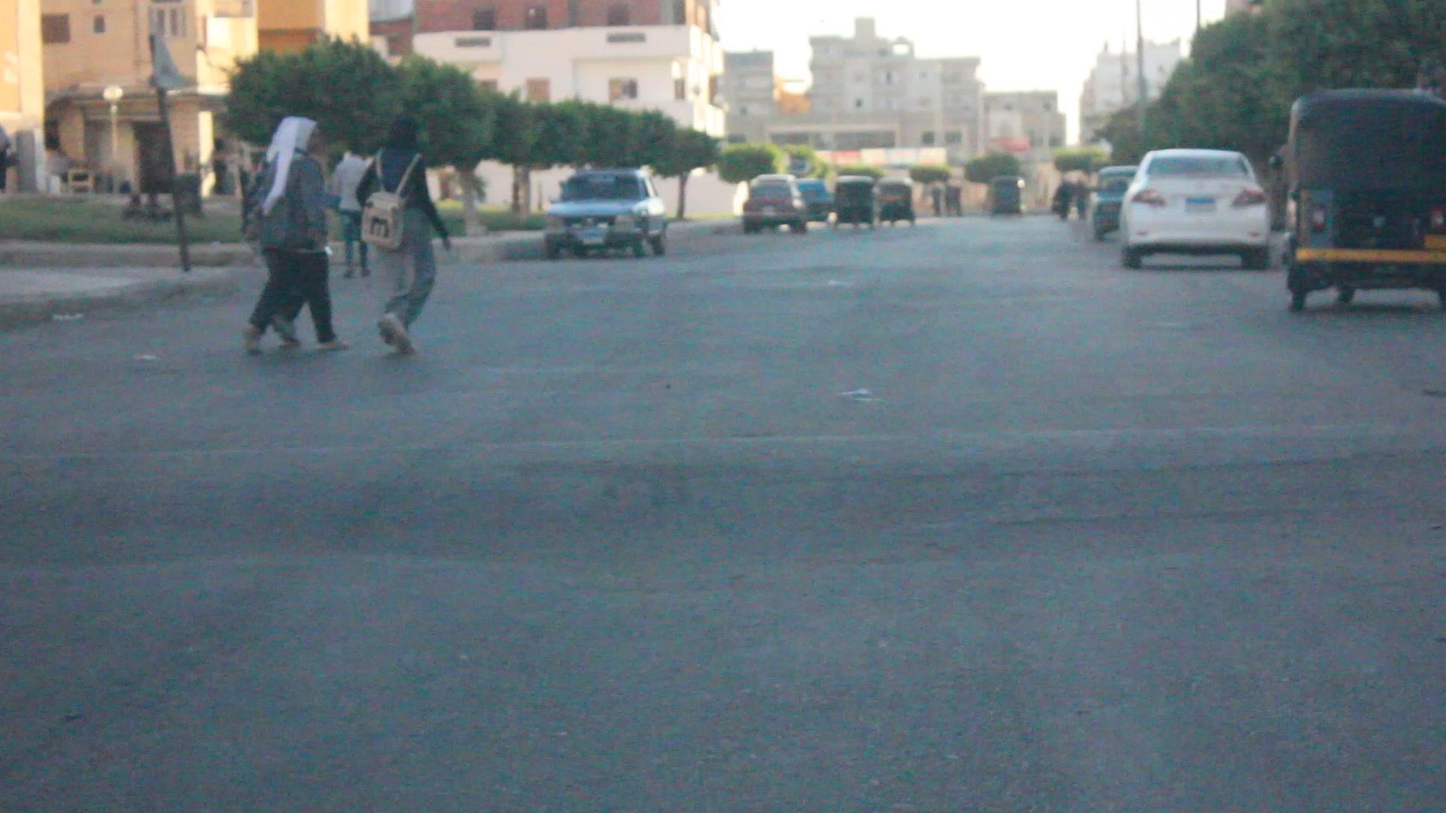Bump: (0, 437, 1446, 563)
